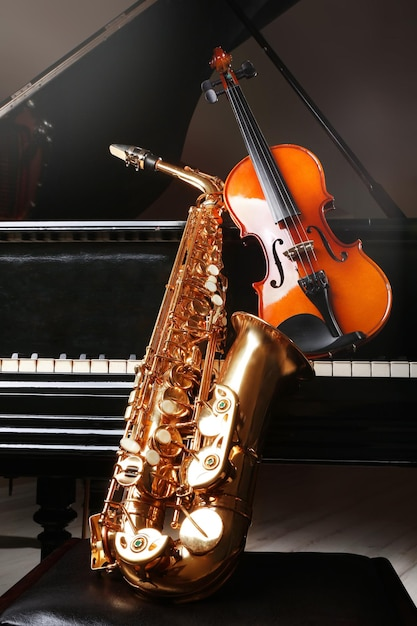Piano: (3, 166, 417, 467)
Saxophone: (90, 146, 275, 593)
Violin: (175, 46, 413, 353)
